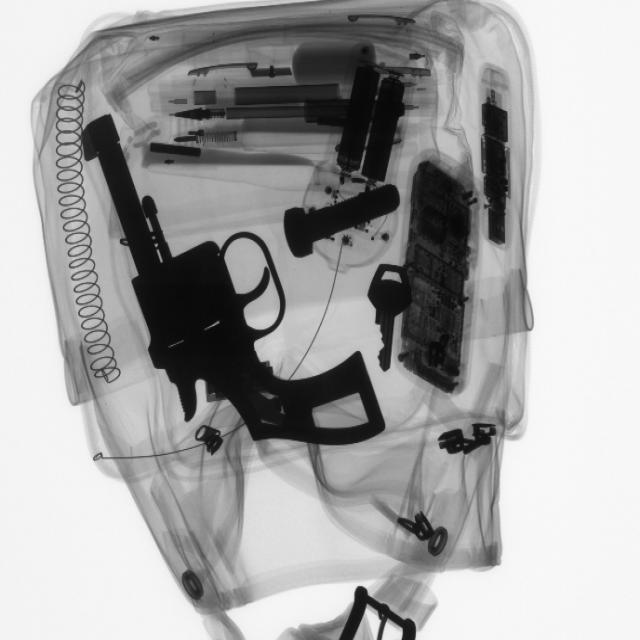GUN: (77, 119, 393, 446)
